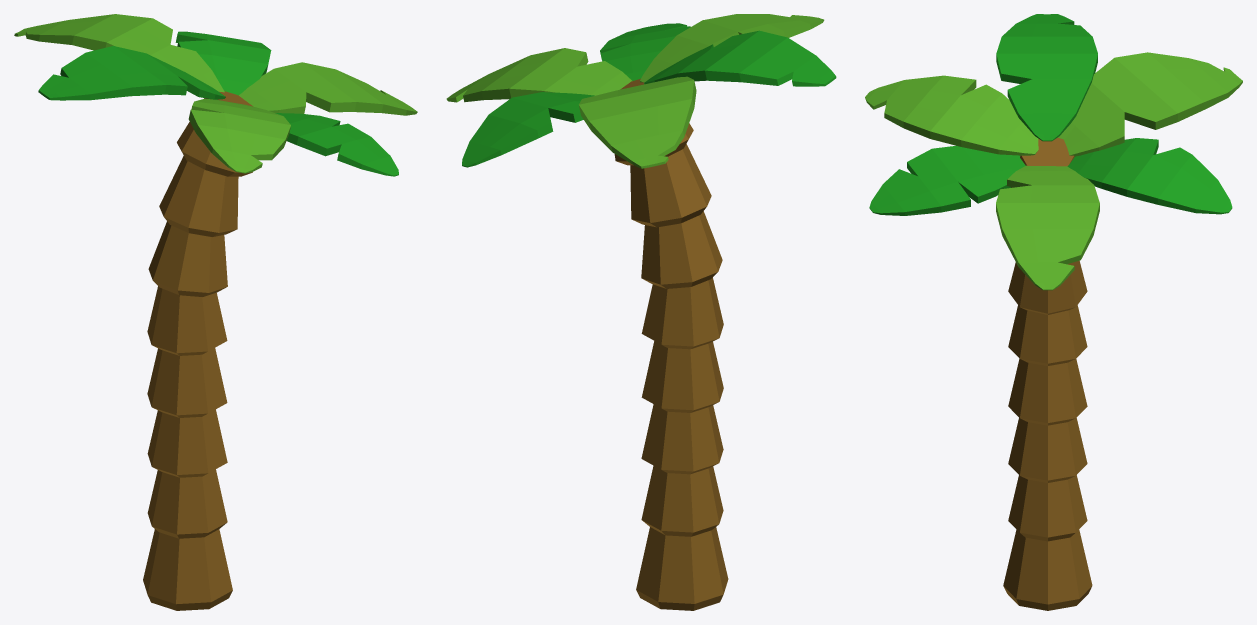
The model's file is palmboom.fbx.
3 renders of one model, left to right at view 1: azimuth 30°, elevation 25°; view 2: azimuth 150°, elevation 25°; view 3: azimuth 270°, elevation 25°, orthographic. The views are drawn at different scales.
Visible parts, largest first — view 1: Cylinder; view 2: Cylinder; view 3: Cylinder.
Part boxes in pixels (left/top/right/bottom): Cylinder: left=14, top=14, right=417, bottom=610; Cylinder: left=446, top=14, right=836, bottom=610; Cylinder: left=865, top=14, right=1242, bottom=610.
Bounding box in the file's own units: 2.86 × 4 × 2.63.
